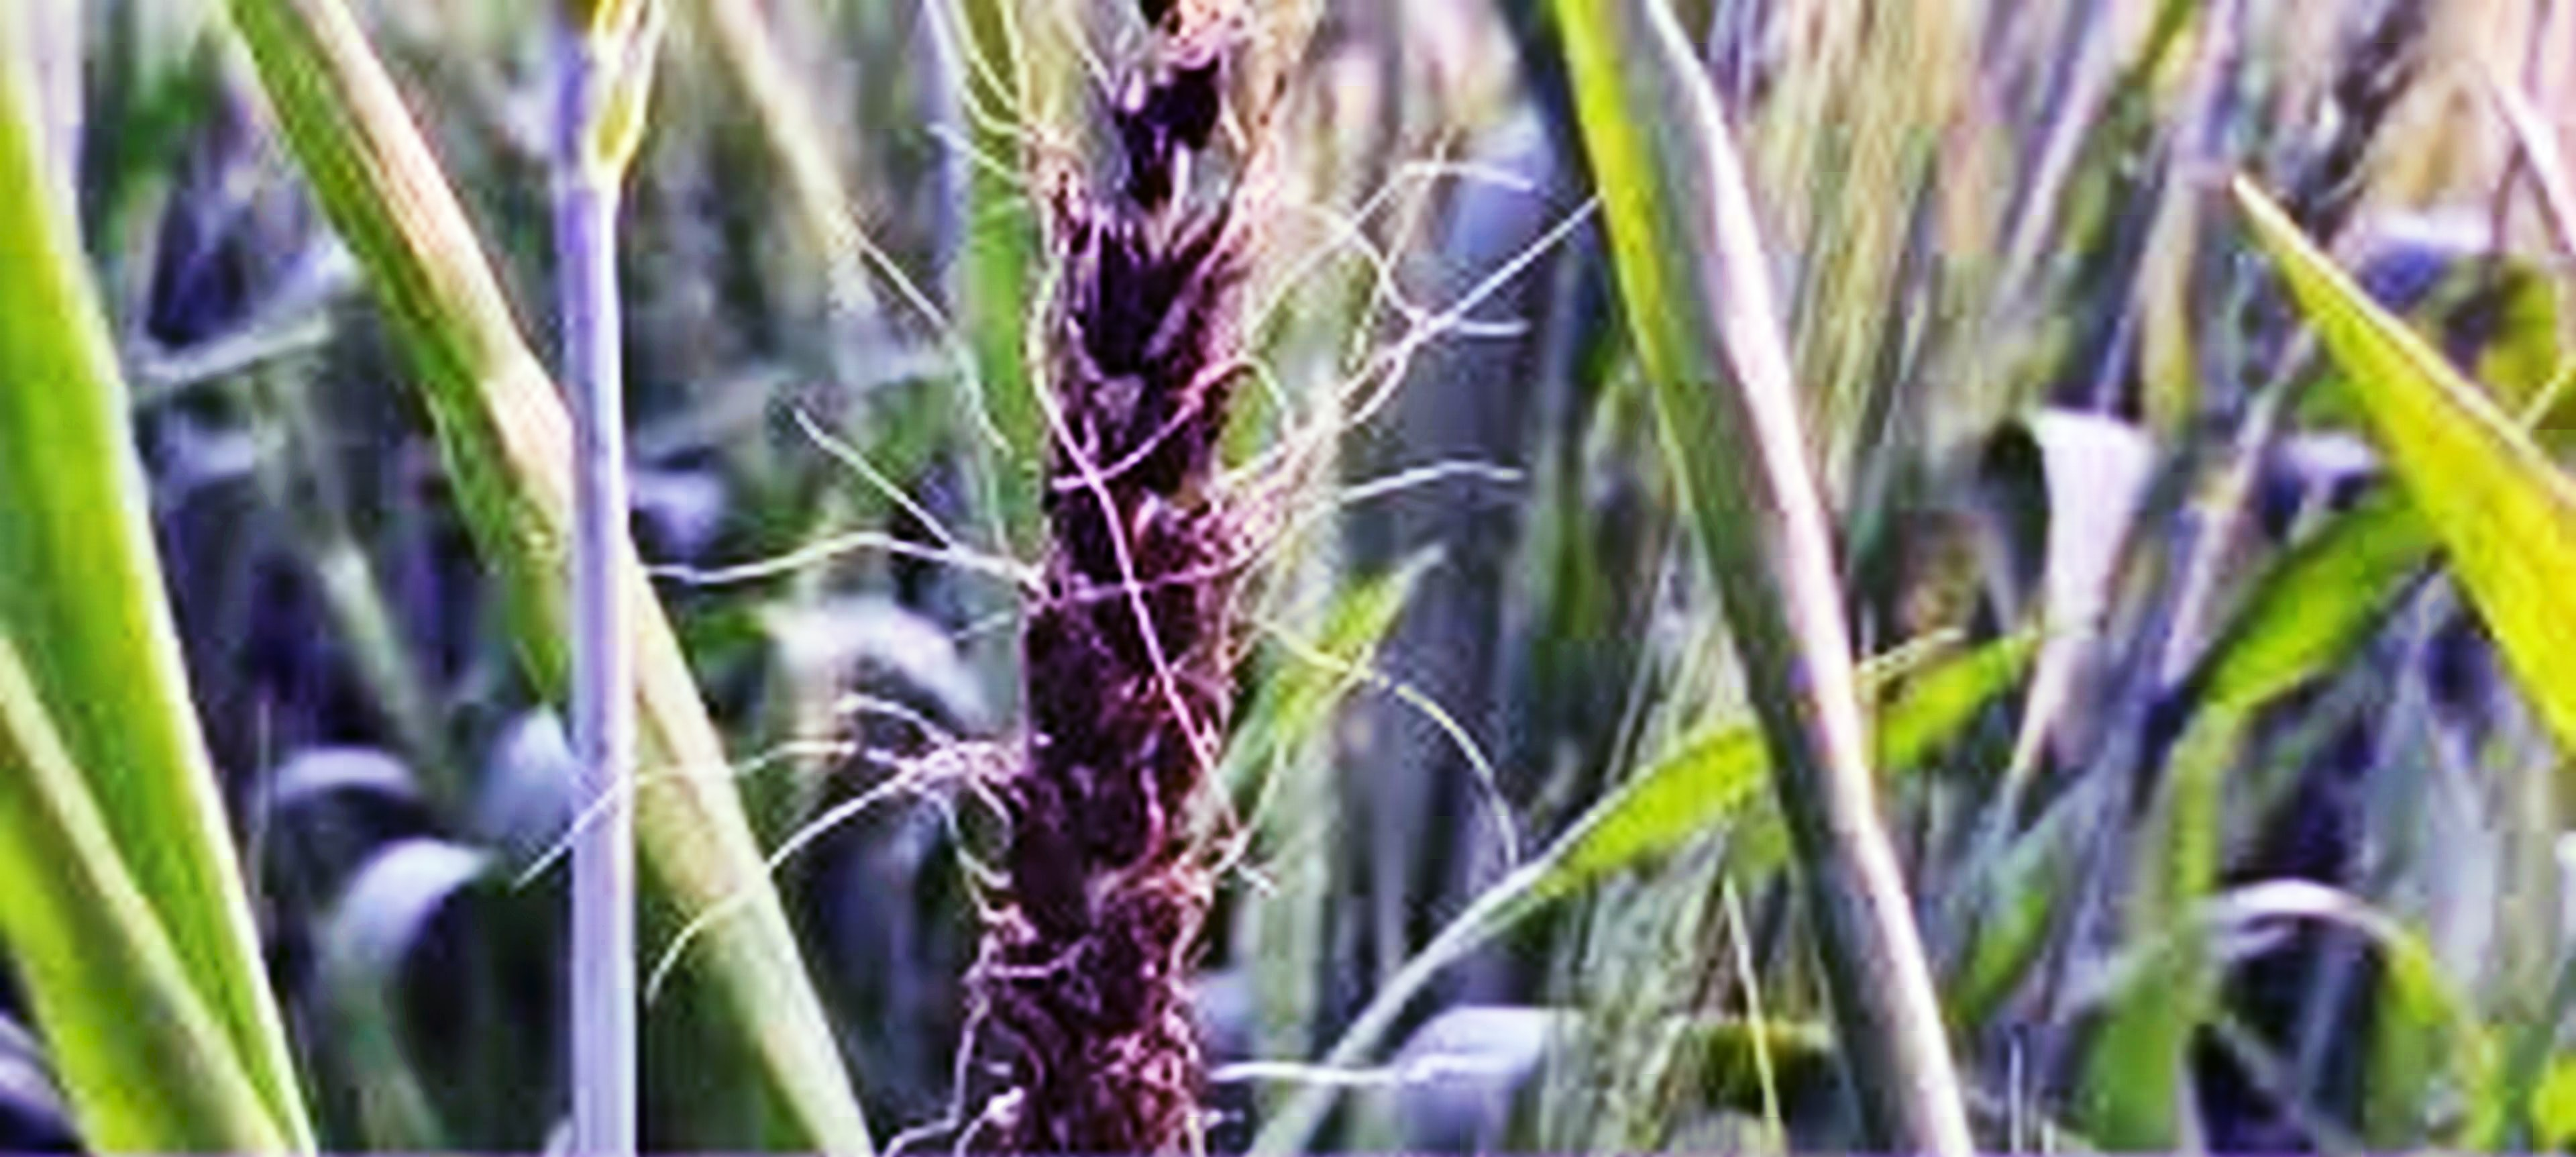Wheat Loose Smut: (940, 59, 1355, 1106)
